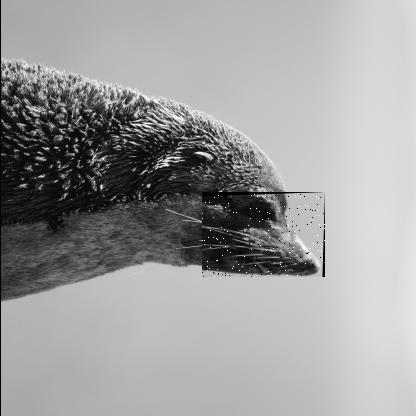face: (200, 192, 324, 278)
